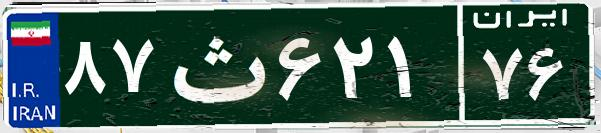1: (385, 28, 445, 110)
2: (330, 28, 385, 110)
6: (273, 28, 330, 110), (525, 38, 570, 115)
7: (475, 38, 525, 113), (110, 28, 158, 105)
8: (57, 26, 110, 107)
ث: (158, 15, 273, 115)
